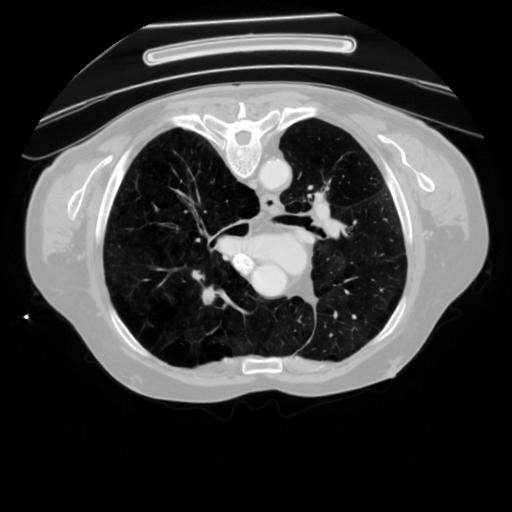nodule: (191, 277, 216, 302)
